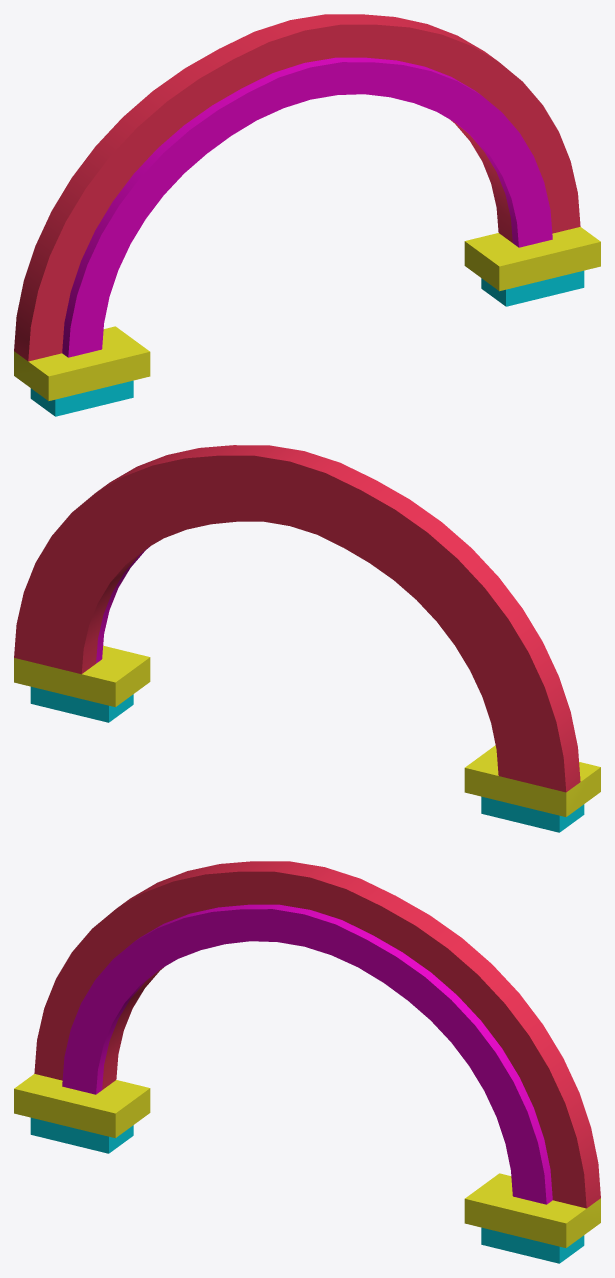
File: arco-corr2.fbx
3 renders of one model, top to bottom at view 1: azimuth 30°, elevation 25°; view 2: azimuth 150°, elevation 25°; view 3: azimuth 330°, elevation 25°, orthographic.
Parts seen in each view (by area): view 1: ARCO_ARRIBA_C; view 2: ARCO_ARRIBA_C; view 3: ARCO_ARRIBA_C.
Part boxes in pixels (box(x1,y1,x2,y2)): ARCO_ARRIBA_C: box(14, 14, 600, 416); ARCO_ARRIBA_C: box(14, 445, 600, 832); ARCO_ARRIBA_C: box(14, 861, 600, 1263).
Size of the model in its own units: 701 by 376 by 76.34.
